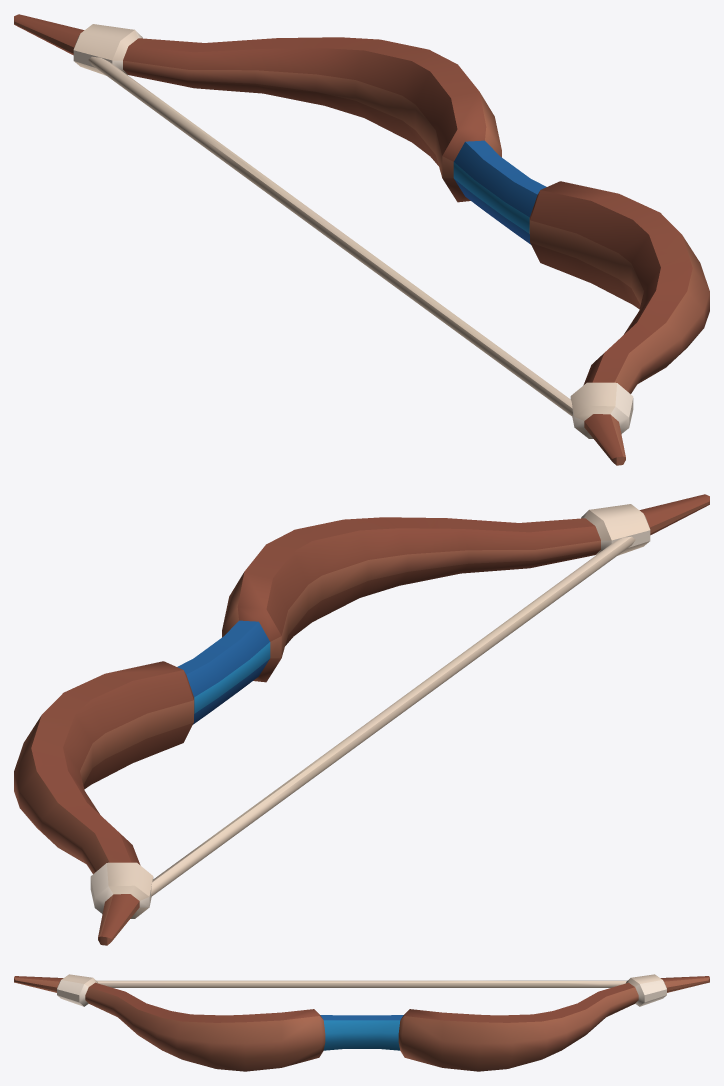
The model's file is w_bow_withstring.glb.
The picture shows the model from 3 angles, top to bottom: view 1: azimuth 30°, elevation 25°; view 2: azimuth 150°, elevation 25°; view 3: azimuth 270°, elevation 25°; orthographic projection. The views are drawn at different scales.
Parts seen in each view (by area): view 1: bow_withString; view 2: bow_withString; view 3: bow_withString.
Boxes of the visible parts, x1,y1,x2,y2 form: bow_withString: [14, 14, 709, 465]; bow_withString: [14, 494, 709, 945]; bow_withString: [14, 974, 709, 1071].
Bounding box in the file's own units: 0.4944 × 0.1555 × 1.98.
1 material, 1 textured.
